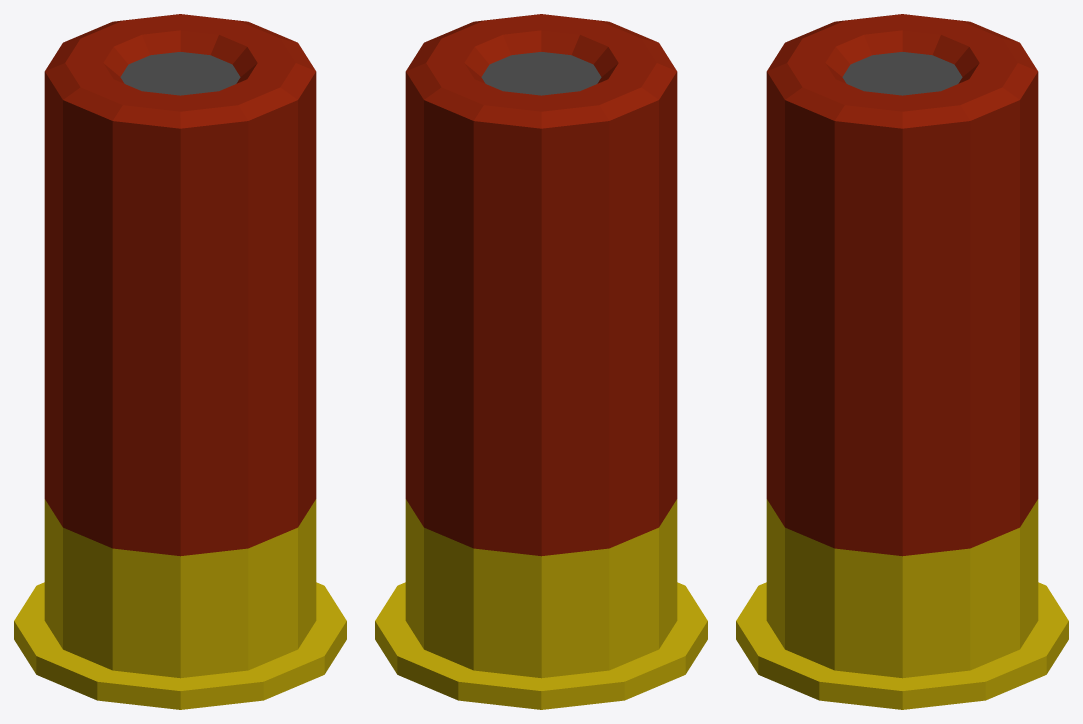
The model's file is shotgunammopickup.fbx.
3 renders of one model, left to right at view 1: azimuth 30°, elevation 25°; view 2: azimuth 150°, elevation 25°; view 3: azimuth 270°, elevation 25°, orthographic.
Parts seen in each view (by area): view 1: shotgun_ammo; view 2: shotgun_ammo; view 3: shotgun_ammo.
Part boxes in pixels (box(x1,y1,x2,y2)): shotgun_ammo: box(14, 14, 346, 709); shotgun_ammo: box(375, 14, 707, 709); shotgun_ammo: box(736, 14, 1068, 709).
Bounding box in the file's own units: 0.2447 × 0.468 × 0.2447.
